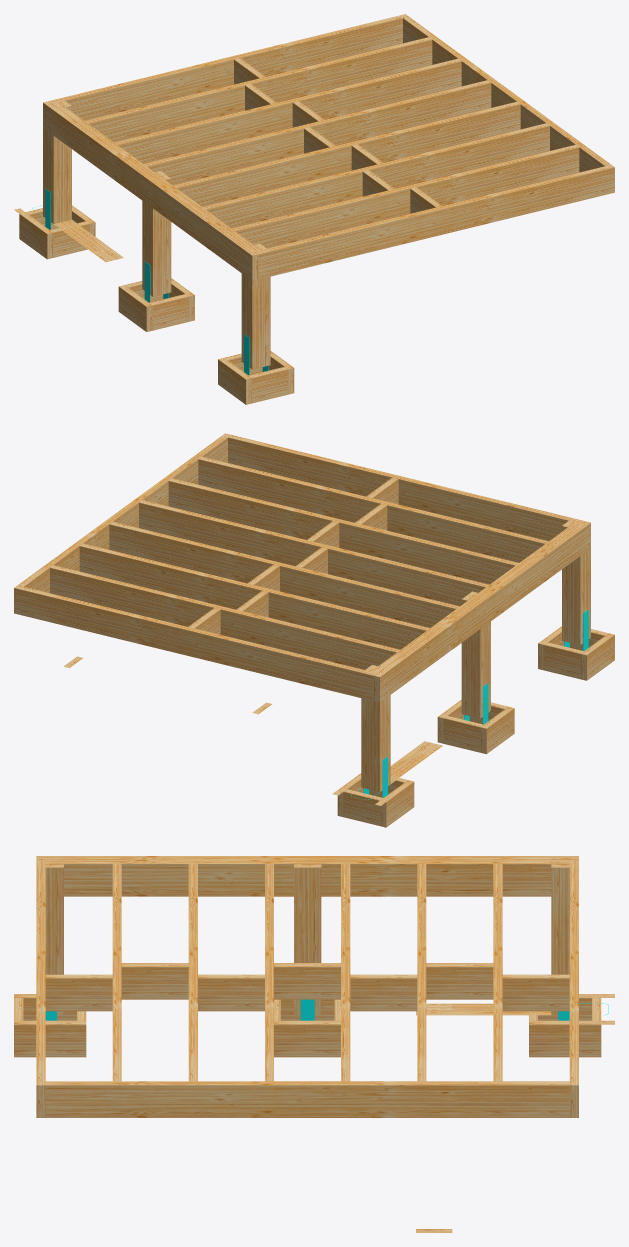
3 renders of one model, top to bottom at view 1: azimuth 30°, elevation 25°; view 2: azimuth 150°, elevation 25°; view 3: azimuth 270°, elevation 25°, orthographic. The views are drawn at different scales.
Parts seen in each view (by area): view 1: Typical Joist (×6), Outer Joist (×2), Column (×3), Rim_Joist, Concrete_Form (×6), Ledger, Beam, object 43; view 2: Typical Joist (×6), Outer Joist (×2), Column (×3), Rim_Joist, Concrete_Form (×6), Ledger, Beam, object 43; view 3: Ledger (×8), Beam, Typical Joist (×6), Concrete_Form (×6), Column (×3), Outer Joist (×2), Rim_Joist, object 43.
Part boxes in pixels (bbox=[...]): Typical Joist (×6): bbox=[85, 37, 579, 248]; Outer Joist (×2): bbox=[49, 14, 614, 279]; Column (×3): bbox=[43, 100, 270, 369]; Rim_Joist: bbox=[43, 101, 258, 280]; Concrete_Form (×6): bbox=[19, 212, 288, 404]; Ledger: bbox=[403, 16, 610, 172]; Beam: bbox=[53, 102, 260, 251]; object 43: bbox=[54, 219, 123, 259]; Typical Joist (×6): bbox=[50, 456, 548, 669]; Outer Joist (×2): bbox=[14, 433, 584, 700]; Column (×3): bbox=[361, 520, 590, 791]; Rim_Joist: bbox=[373, 521, 590, 702]; Concrete_Form (×6): bbox=[343, 633, 614, 827]; Ledger: bbox=[18, 436, 227, 592]; Beam: bbox=[371, 522, 580, 672]; object 43: bbox=[390, 741, 430, 783]; Ledger (×8): bbox=[45, 963, 569, 1117]; Beam: bbox=[45, 860, 569, 896]; Typical Joist (×6): bbox=[112, 864, 502, 1081]; Concrete_Form (×6): bbox=[14, 994, 601, 1057]; Column (×3): bbox=[45, 864, 569, 1015]; Outer Joist (×2): bbox=[36, 860, 578, 1117]; Rim_Joist: bbox=[36, 856, 578, 859]; object 43: bbox=[416, 1003, 551, 1015].
Bounding box in the file's own units: 3.12 × 1.1 × 3.32.
Materials: 2 (1 with a texture image).
